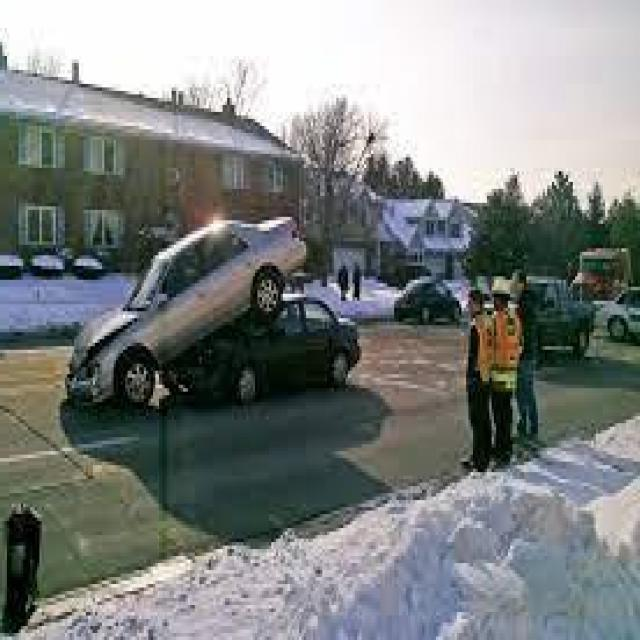multiple_accident: (63, 189, 353, 427)
